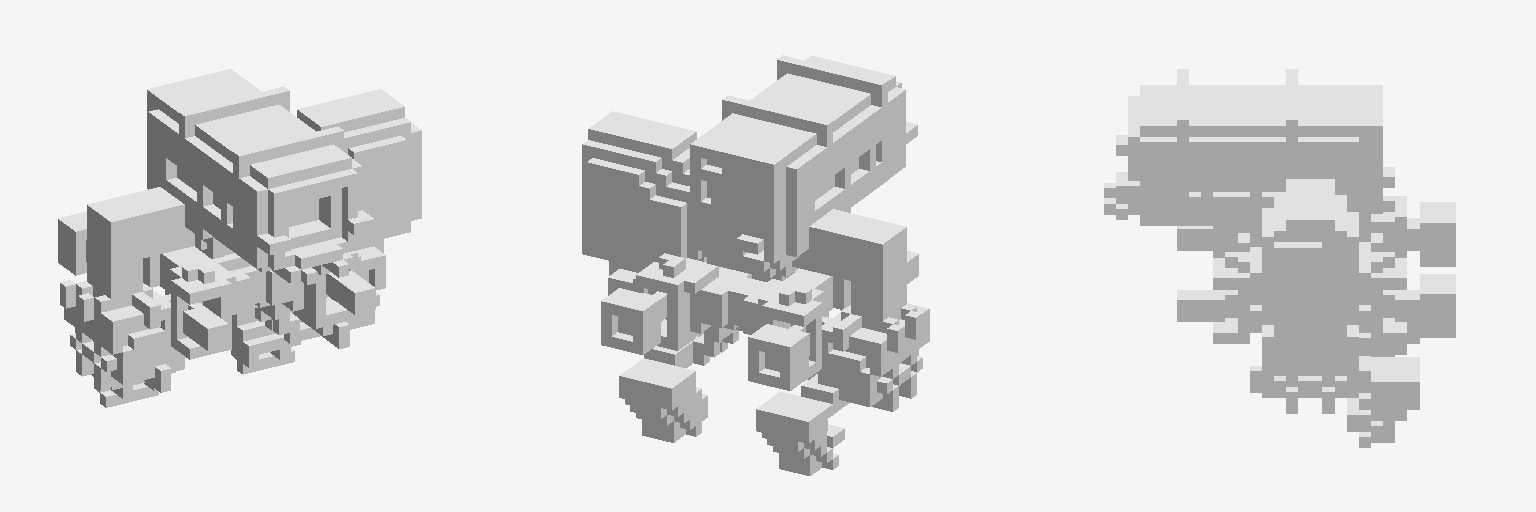
The model's file is EnemyCannonBody.obj.
The picture shows the model from 3 angles: view 1: azimuth 30°, elevation 25°; view 2: azimuth 150°, elevation 25°; view 3: azimuth 270°, elevation 25°; orthographic projection.
Visible parts, largest first — view 1: object 1; view 2: object 1; view 3: object 1.
Boxes of the visible parts, box(x1,y1,x2,y2) form: object 1: box(58, 69, 421, 407); object 1: box(582, 55, 929, 475); object 1: box(1104, 69, 1455, 447).
Bounding box in the file's own units: 3.1 × 2.8 × 2.9.